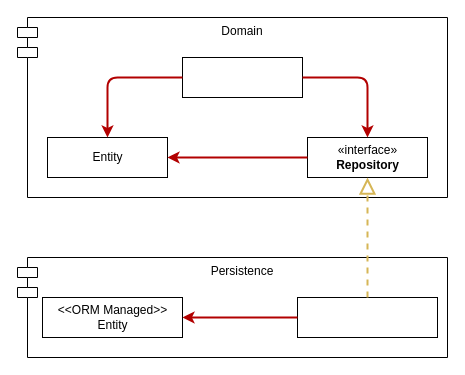
The diagram is 465 pixels wide and 375 high, and some of its shapes have lost their labels. The centre of each missing label's shape, as x and y in pixels:
RepositoryImpl: point (367, 317)
Service: point (242, 77)
